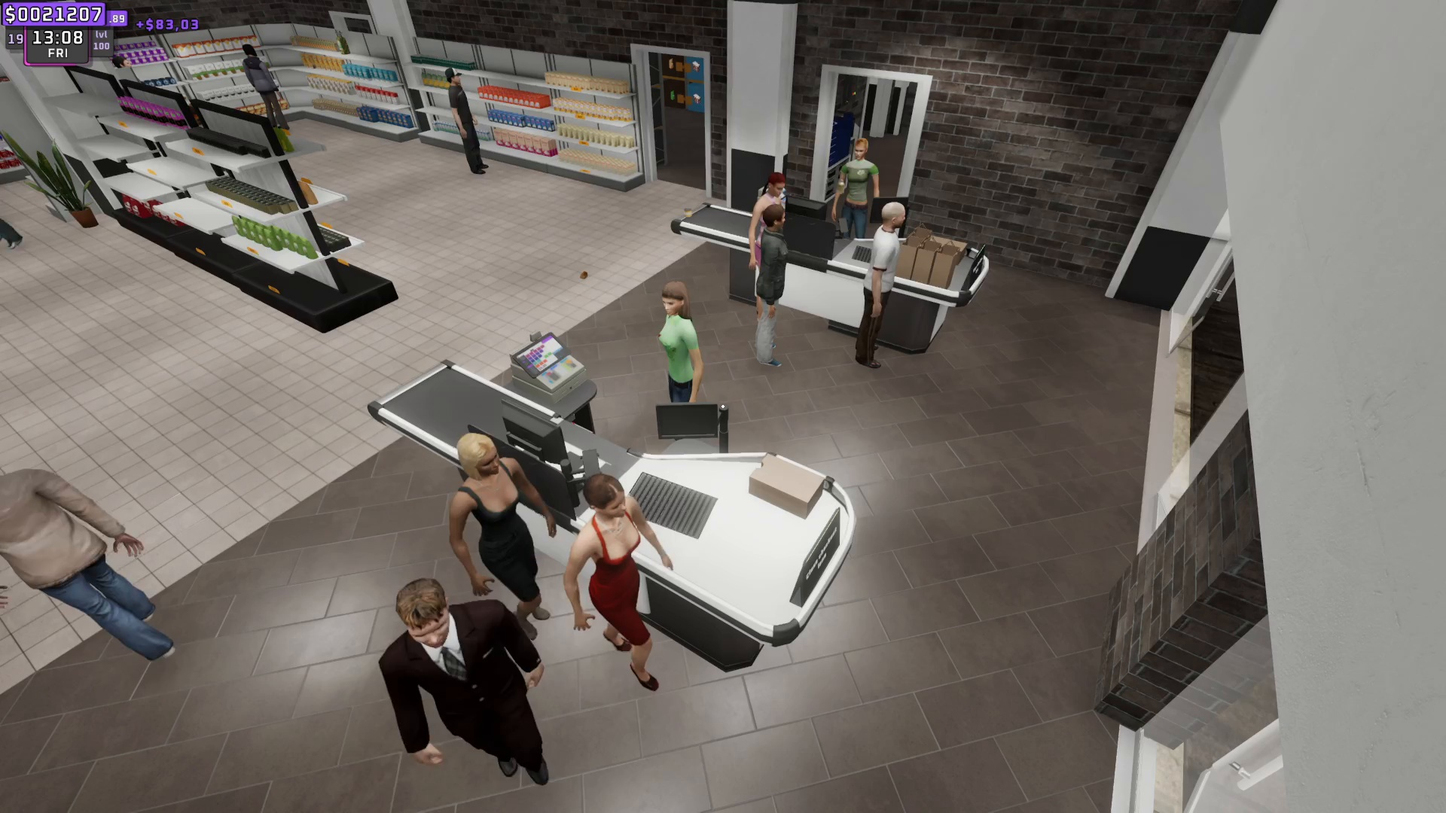Client: (388, 583, 568, 789), (569, 465, 665, 682), (450, 440, 550, 621), (867, 200, 899, 375), (762, 210, 789, 375), (755, 175, 784, 317)
Employee: (655, 288, 708, 401), (839, 131, 878, 231)
